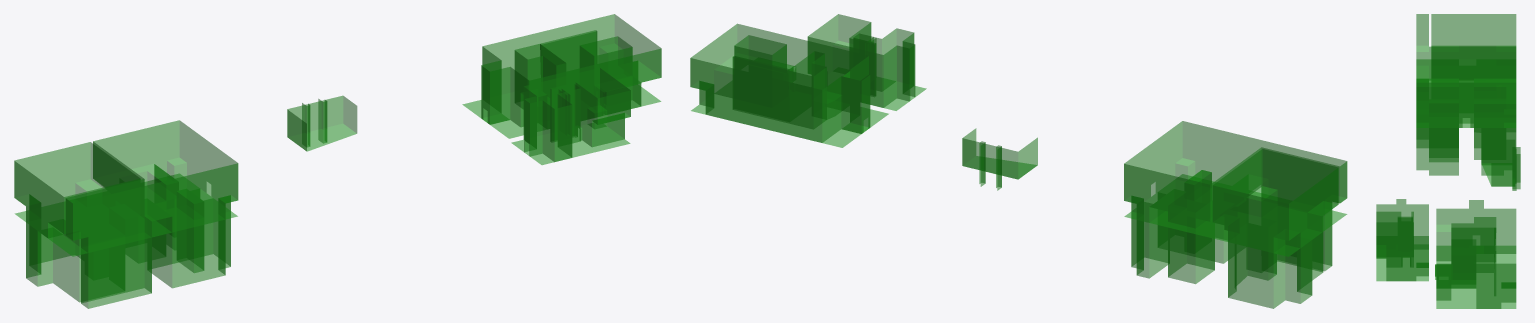
The model's file is camera_col.obj.
3 renders of one model, left to right at view 1: azimuth 30°, elevation 25°; view 2: azimuth 150°, elevation 25°; view 3: azimuth 270°, elevation 25°, orthographic. The views are drawn at different scales.
Bounding box in the file's own units: 236 × 41 × 57.67.
